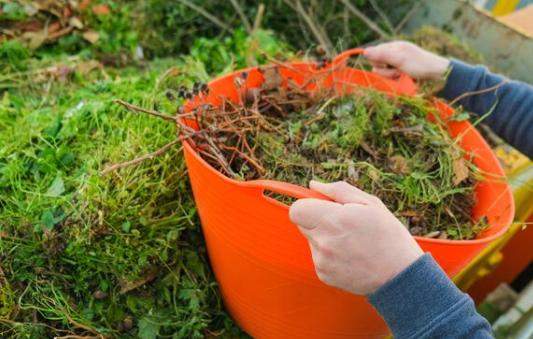organic: (194, 64, 499, 246)
